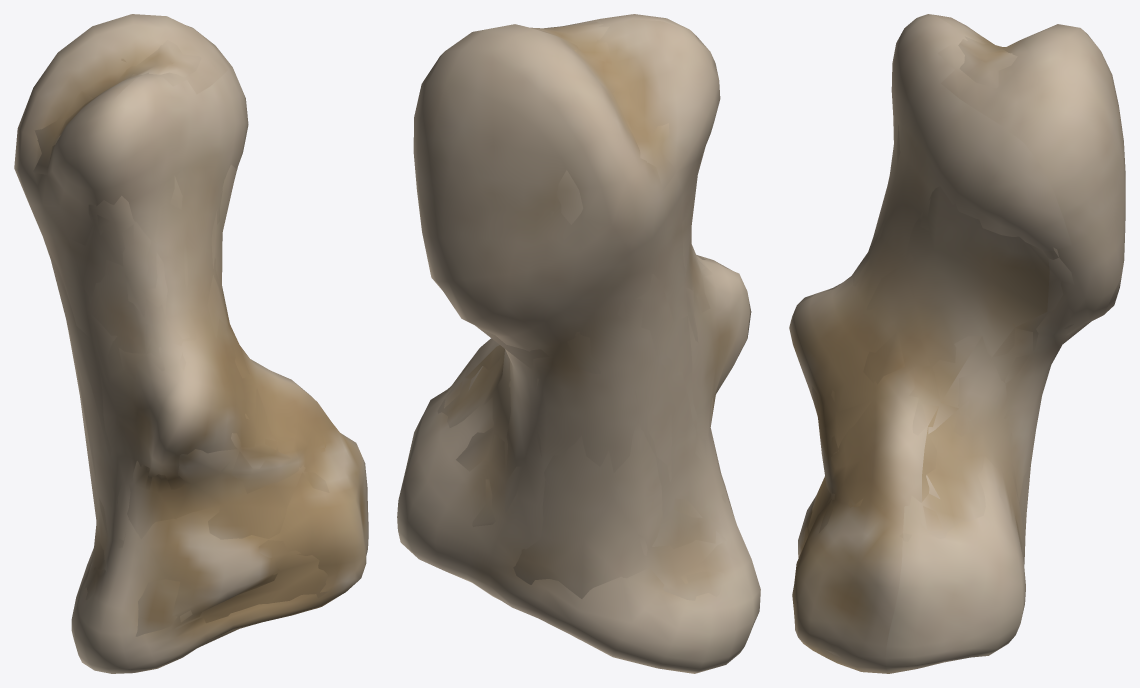
The model's file is R calcaneus.fbx.
3 views of the same model, side by side, from view 1: azimuth 30°, elevation 25°; view 2: azimuth 150°, elevation 25°; view 3: azimuth 270°, elevation 25° (orthographic). The views are drawn at different scales.
Parts seen in each view (by area): view 1: R calcaneus, R calcaneus low; view 2: R calcaneus, R calcaneus low; view 3: R calcaneus, R calcaneus low.
Part boxes in pixels (x1,y1,x2,y2): R calcaneus: (14,14,368,673); R calcaneus low: (33,40,330,647); R calcaneus: (397,14,760,673); R calcaneus low: (437,21,726,600); R calcaneus: (789,14,1125,673); R calcaneus low: (802,36,1091,657).
Size of the model in its own units: 7.22 by 13.78 by 6.73.
